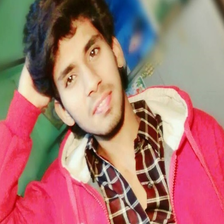no_mask: (51, 23, 123, 137)
